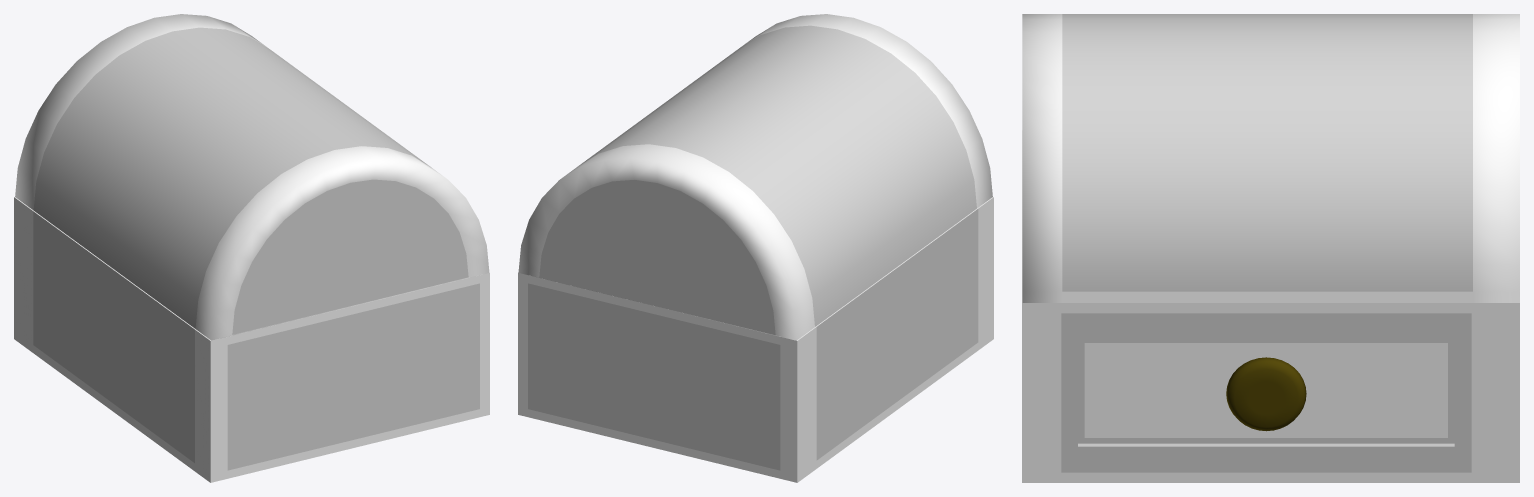
File: Chest.gltf
3 views of the same model, side by side, from view 1: azimuth 30°, elevation 25°; view 2: azimuth 150°, elevation 25°; view 3: azimuth 270°, elevation 25° (orthographic). The views are drawn at different scales.
Visible parts, largest first — view 1: Bau-Tampa, Bau; view 2: Bau-Tampa, Bau; view 3: Bau-Tampa, Bau, Bau-Detalhe, Bau-Fechadura.
Part boxes in pixels (<box>): Bau-Tampa: <box>15,14,489,340</box>; Bau: <box>14,197,489,482</box>; Bau-Tampa: <box>518,14,992,340</box>; Bau: <box>518,197,993,482</box>; Bau-Tampa: <box>1022,14,1519,302</box>; Bau: <box>1022,130,1519,482</box>; Bau-Detalhe: <box>1084,343,1447,437</box>; Bau-Fechadura: <box>1226,357,1306,431</box>.
Bounding box in the file's own units: 1.22 × 1.16 × 1.44.
